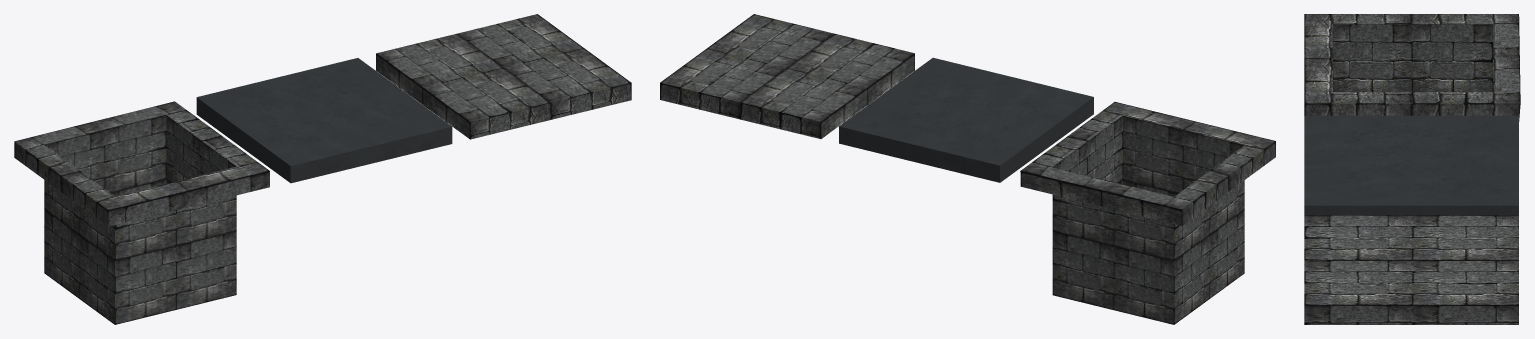
File: Floors.fbx
The picture shows the model from 3 angles, left to right: view 1: azimuth 30°, elevation 25°; view 2: azimuth 150°, elevation 25°; view 3: azimuth 270°, elevation 25°; orthographic projection. The views are drawn at different scales.
Visible parts, largest first — view 1: Floor_C, Floor_B, Floor_A; view 2: Floor_C, Floor_A, Floor_B; view 3: Floor_A, Floor_C, Floor_B.
Boxes of the visible parts, x1,y1,x2,y2 form: Floor_C: [14, 101, 269, 324]; Floor_B: [196, 58, 452, 183]; Floor_A: [376, 14, 631, 139]; Floor_C: [1020, 102, 1275, 324]; Floor_A: [660, 14, 914, 138]; Floor_B: [839, 57, 1093, 182]; Floor_A: [1304, 215, 1518, 324]; Floor_C: [1304, 14, 1520, 121]; Floor_B: [1304, 115, 1518, 215].
Bounding box in the file's own units: 18.79 × 4.41 × 5.9.
